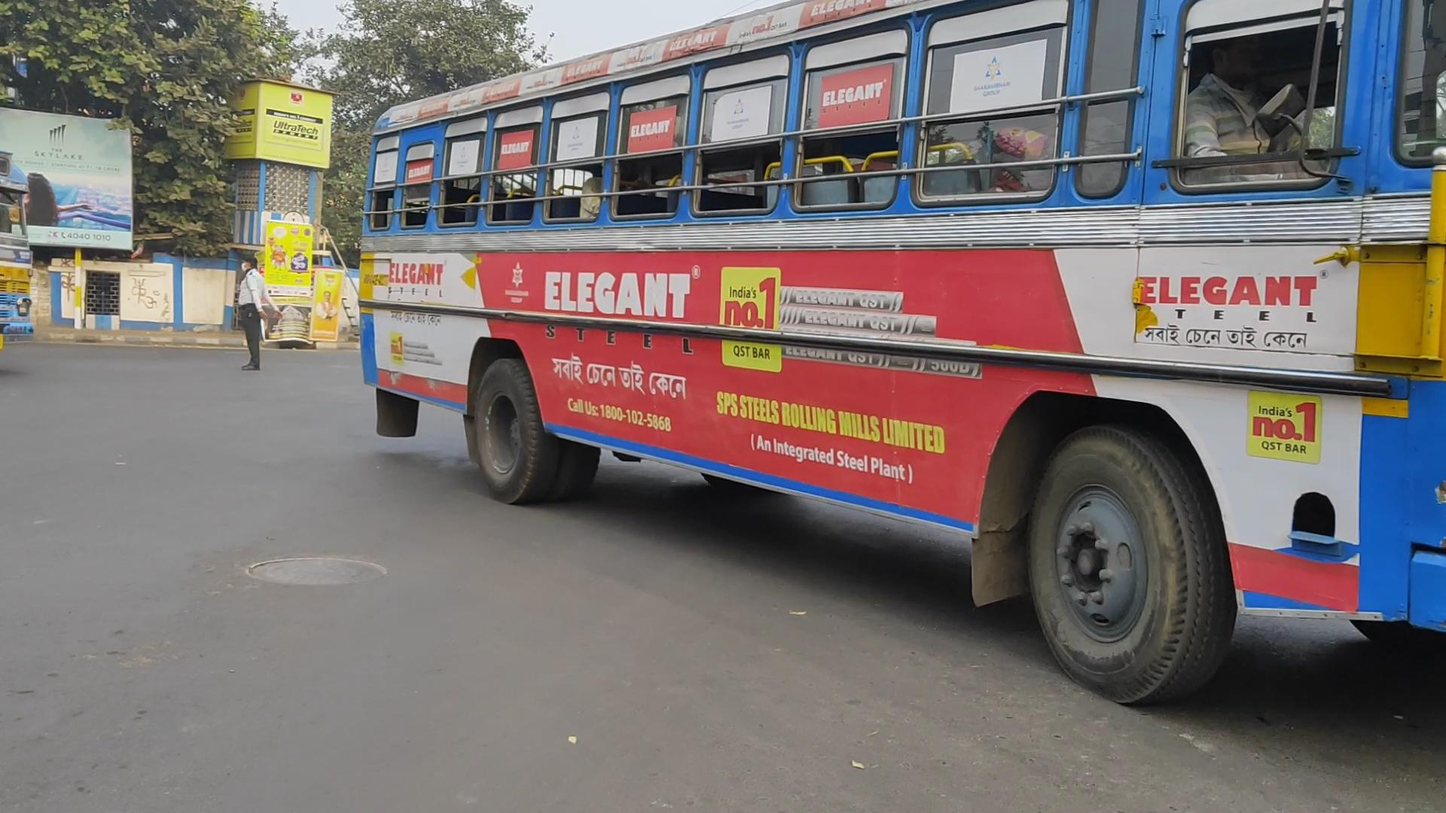Bus: (356, 5, 1446, 706)
